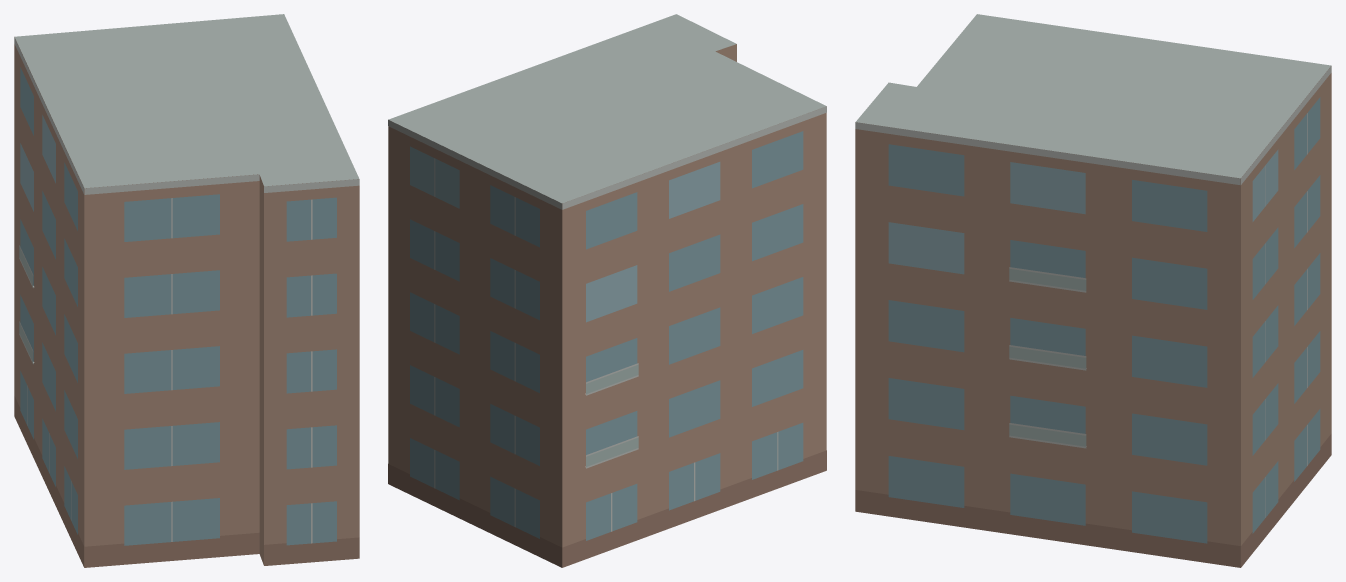
The model's file is survey-upis-32989365.glb.
The picture shows the model from 3 angles, left to right: view 1: azimuth 30°, elevation 25°; view 2: azimuth 150°, elevation 25°; view 3: azimuth 270°, elevation 25°; orthographic projection. The views are drawn at different scales.
Parts seen in each view (by area): view 1: survey-upis-32989365.tmp; view 2: survey-upis-32989365.tmp; view 3: survey-upis-32989365.tmp.
Boxes of the visible parts, bbox=[...] form: survey-upis-32989365.tmp: bbox=[14, 14, 359, 567]; survey-upis-32989365.tmp: bbox=[388, 14, 826, 567]; survey-upis-32989365.tmp: bbox=[855, 14, 1331, 567].
Size of the model in its own units: 12.5 by 13.8 by 15.3.
